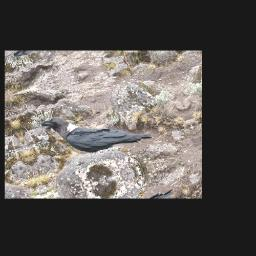Crow: (39, 93, 155, 168)
